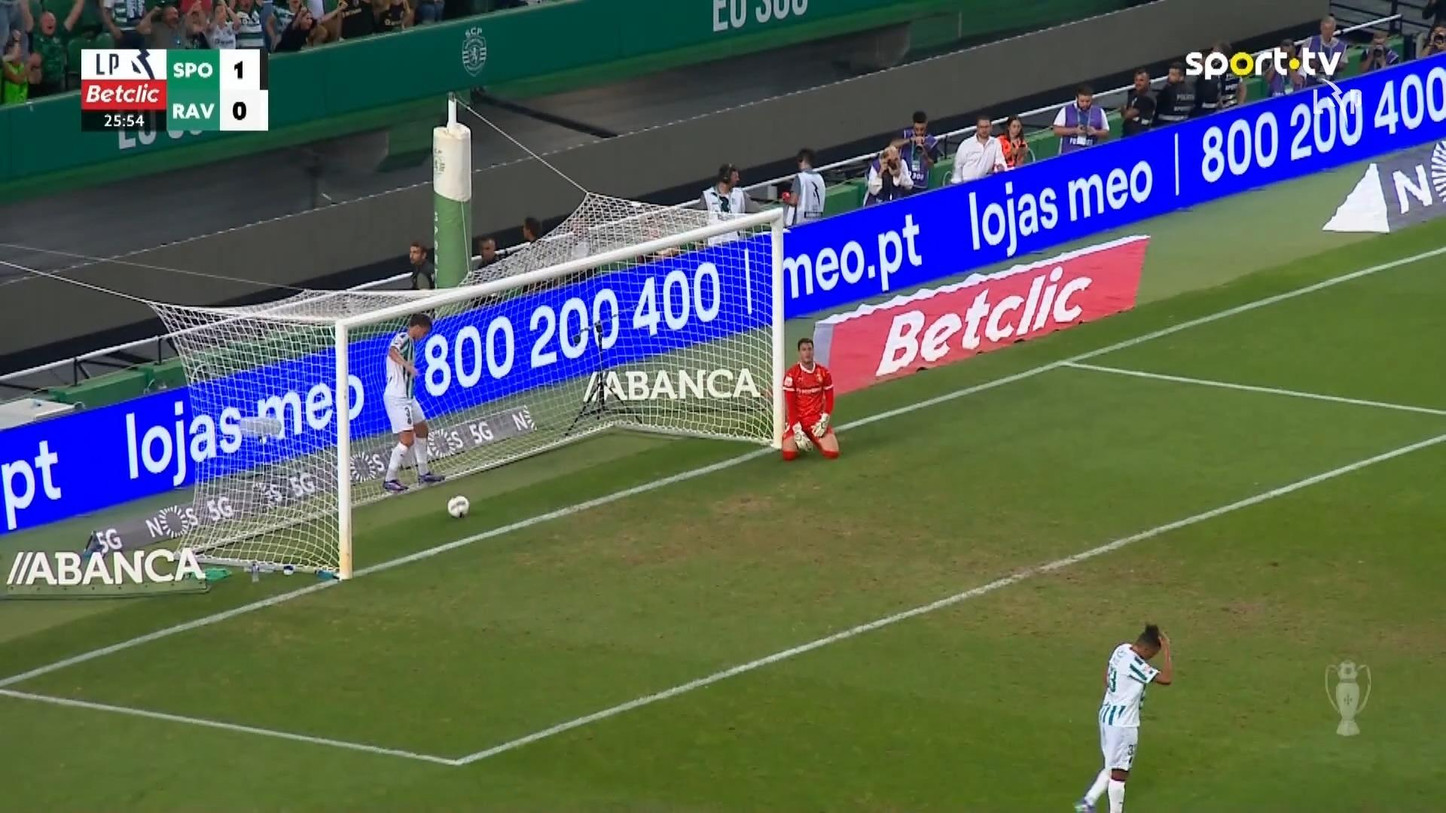ball: (446, 494, 468, 519)
goalkeeper: (779, 336, 840, 460)
player: (1072, 622, 1173, 811), (380, 312, 447, 493)
